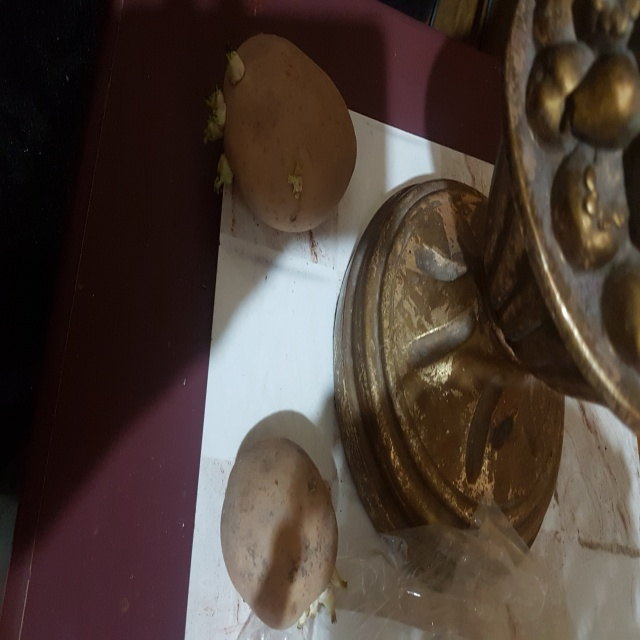potato: (210, 29, 363, 240), (220, 441, 354, 635)
